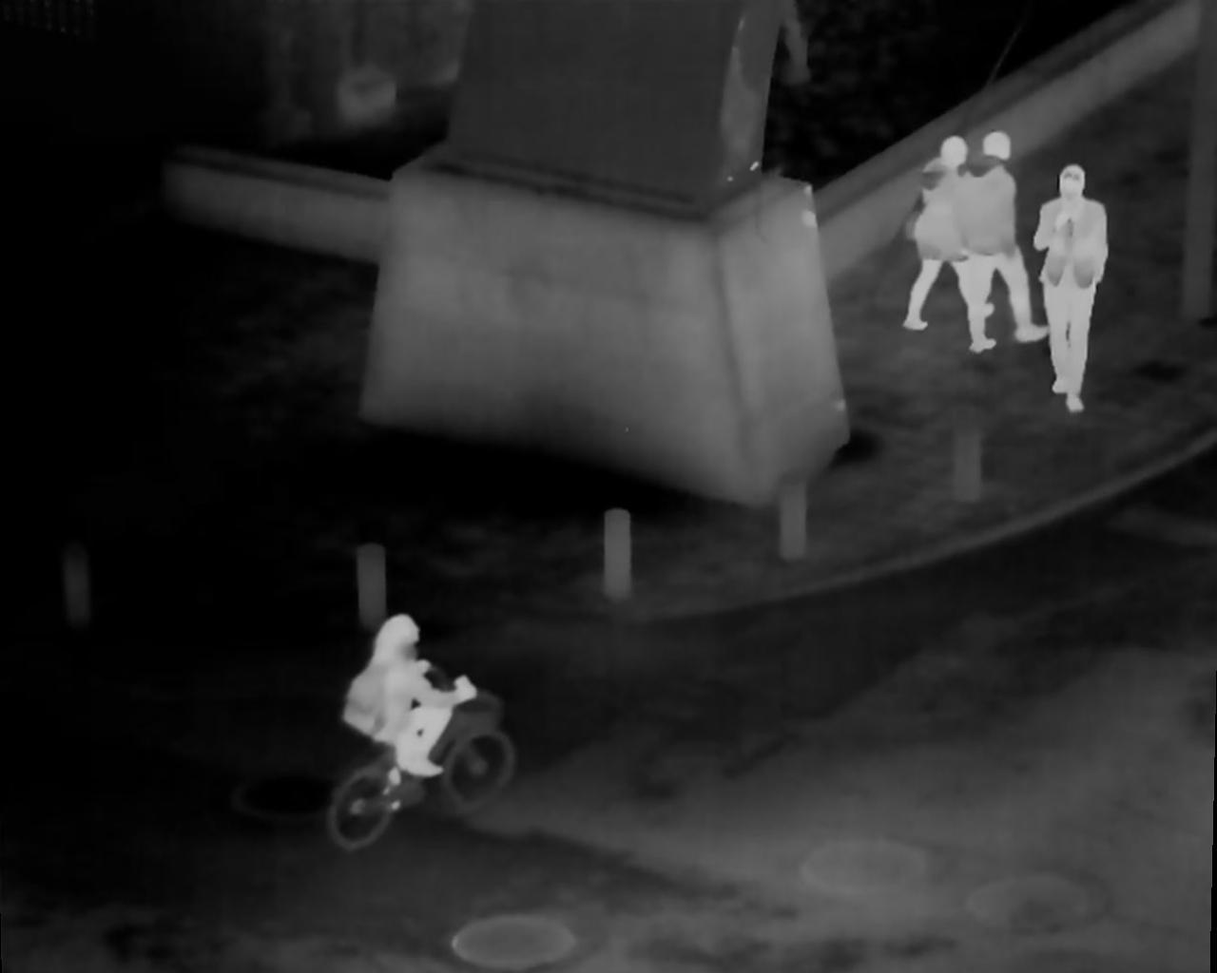person: (334, 613, 474, 790), (1032, 165, 1111, 405), (956, 130, 1031, 360), (902, 140, 980, 352)
